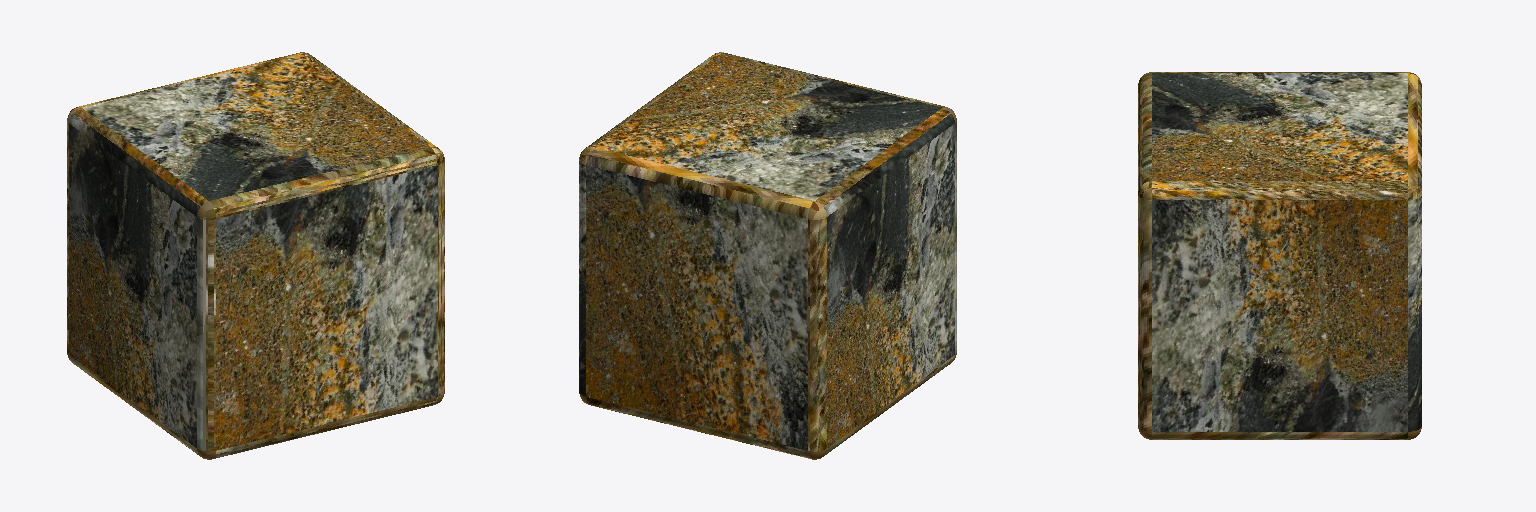
3 views of the same model, side by side, from view 1: azimuth 30°, elevation 25°; view 2: azimuth 150°, elevation 25°; view 3: azimuth 270°, elevation 25° (orthographic).
Parts seen in each view (by area): view 1: Cube; view 2: Cube; view 3: Cube.
Part boxes in pixels (x1,y1,x2,y2): Cube: (67, 52, 444, 459); Cube: (579, 52, 956, 459); Cube: (1138, 72, 1421, 439).
Bounding box in the file's own units: 2 × 2 × 2.
1 materials, 1 textured.